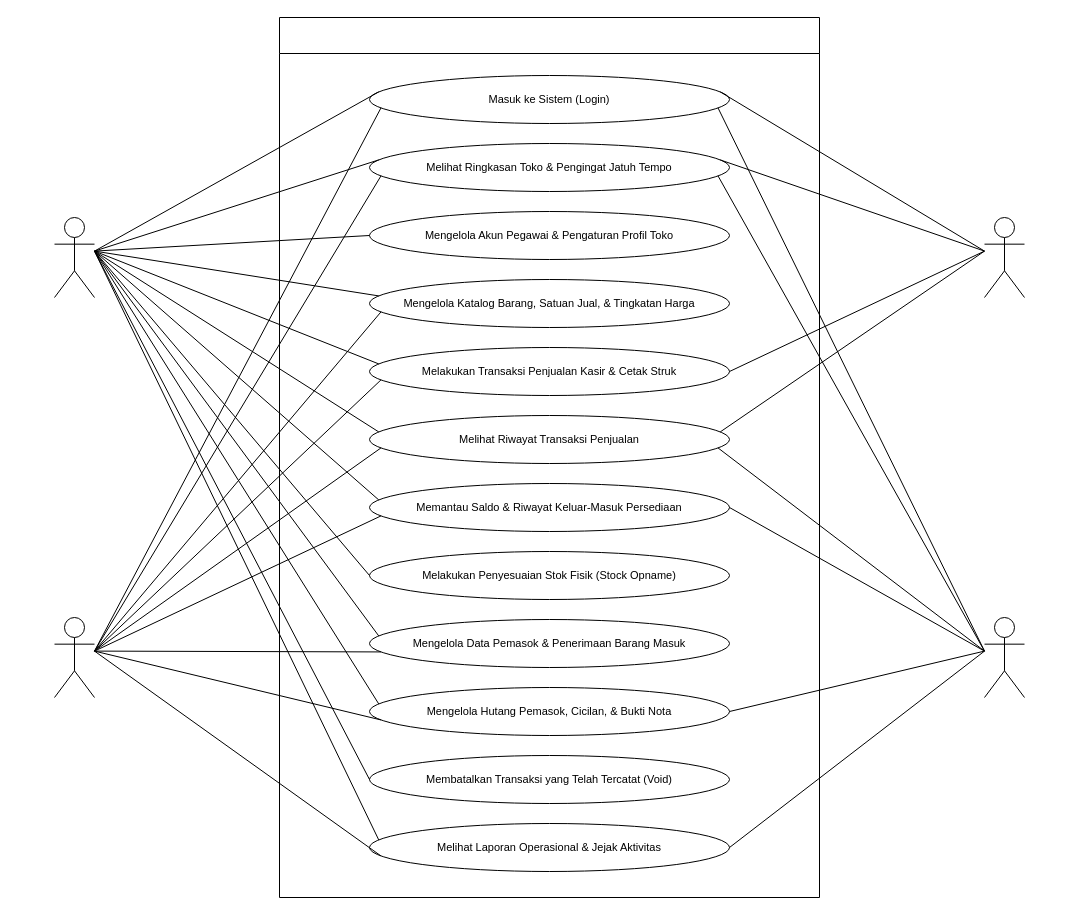
Some shapes in this 1075 by 915 pixel diagram are drawn without their labels. The box of each missing label's shape, as (x1, y1, x2, y2) in pixels:
Kasir: (984, 216, 1024, 298)
Pemeriksa Internal: (984, 616, 1024, 698)
Pemilik Toko: (54, 216, 94, 298)
Petugas Persediaan: (54, 616, 94, 698)
Sistem Informasi Penjualan dan Persediaan Toko NF Harapan Rumbai: (278, 16, 820, 898)
